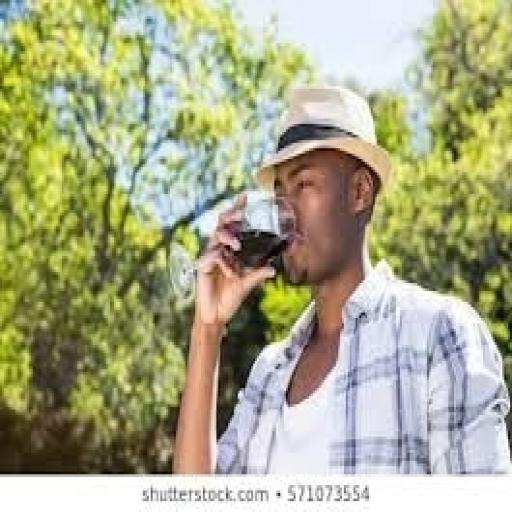drinking: (228, 53, 371, 270)
